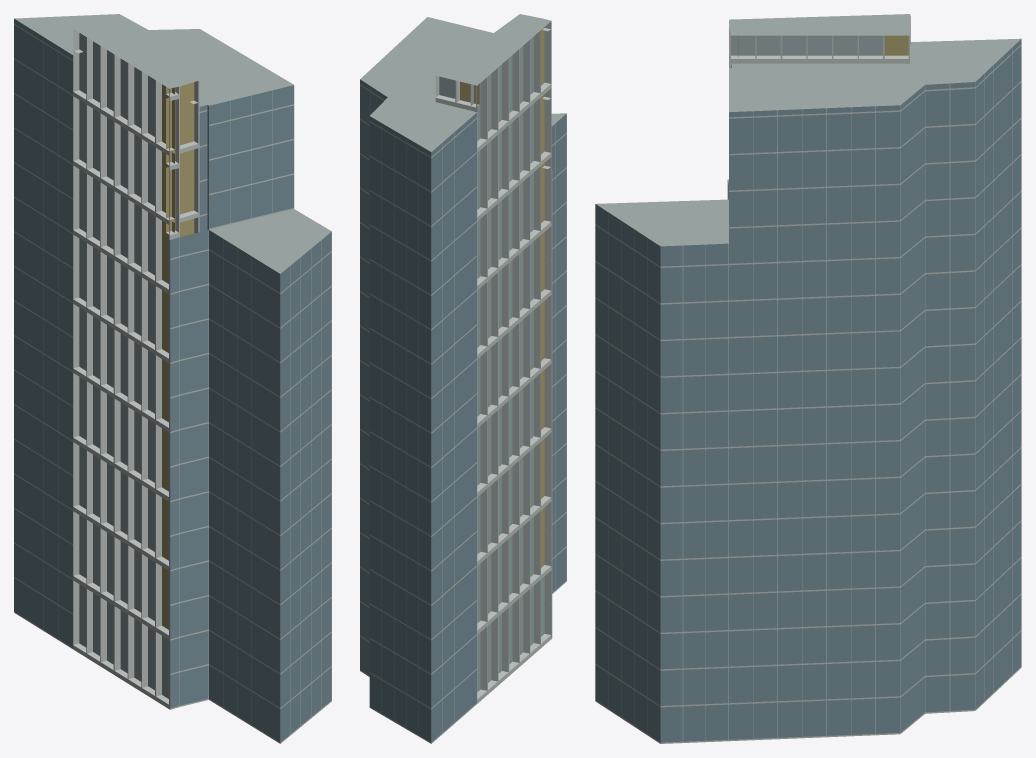
The model's file is tour-trinity-far.glb.
The picture shows the model from 3 angles, left to right: view 1: azimuth 30°, elevation 25°; view 2: azimuth 150°, elevation 25°; view 3: azimuth 270°, elevation 25°; orthographic projection. The views are drawn at different scales.
Parts seen in each view (by area): view 1: tour-trinity-0-glass, tour-trinity-0-frame, tour-trinity-0-coreglass, tour-trinity-0-roof, tour-trinity-0-gold; view 2: tour-trinity-0-glass, tour-trinity-0-frame, tour-trinity-0-coreglass, tour-trinity-0-roof, tour-trinity-0-gold; view 3: tour-trinity-0-glass, tour-trinity-0-frame, tour-trinity-0-roof, tour-trinity-0-coreglass.
Part boxes in pixels (x1=…): tour-trinity-0-glass: x1=14, y1=18, x2=331, y2=742; tour-trinity-0-frame: x1=14, y1=23, x2=331, y2=743; tour-trinity-0-coreglass: x1=79, y1=33, x2=168, y2=698; tour-trinity-0-roof: x1=14, y1=14, x2=331, y2=273; tour-trinity-0-gold: x1=162, y1=82, x2=194, y2=629; tour-trinity-0-glass: x1=360, y1=79, x2=566, y2=742; tour-trinity-0-frame: x1=360, y1=21, x2=566, y2=743; tour-trinity-0-coreglass: x1=439, y1=36, x2=544, y2=691; tour-trinity-0-roof: x1=360, y1=14, x2=566, y2=170; tour-trinity-0-gold: x1=460, y1=27, x2=544, y2=567; tour-trinity-0-glass: x1=595, y1=39, x2=1021, y2=742; tour-trinity-0-frame: x1=595, y1=14, x2=1021, y2=743; tour-trinity-0-roof: x1=596, y1=14, x2=1020, y2=246; tour-trinity-0-coreglass: x1=731, y1=35, x2=882, y2=55.
Bounding box in the file's own units: 34.82 × 140 × 82.25.
